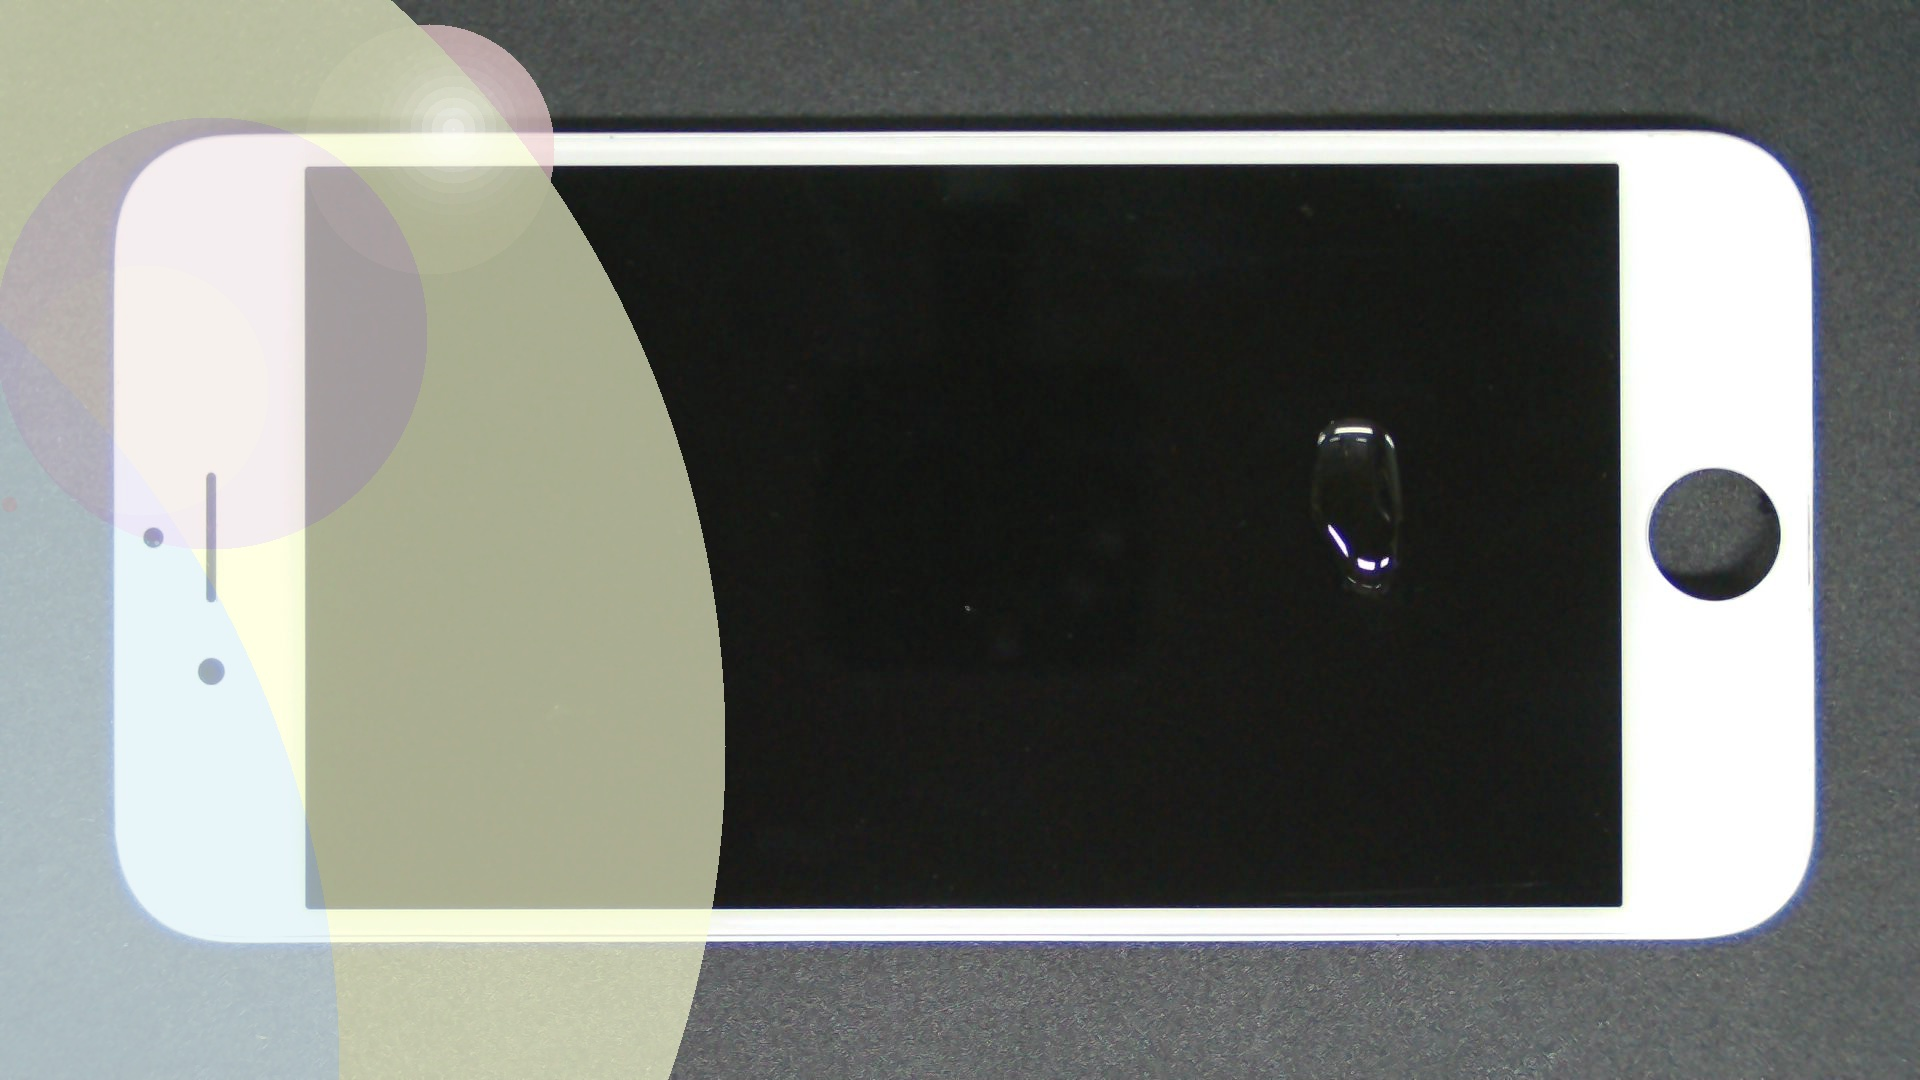oil: (675, 208, 1920, 626)
